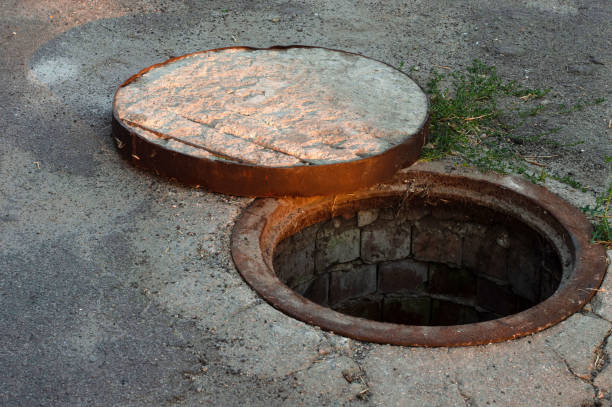open_manhole: (224, 182, 598, 347)
